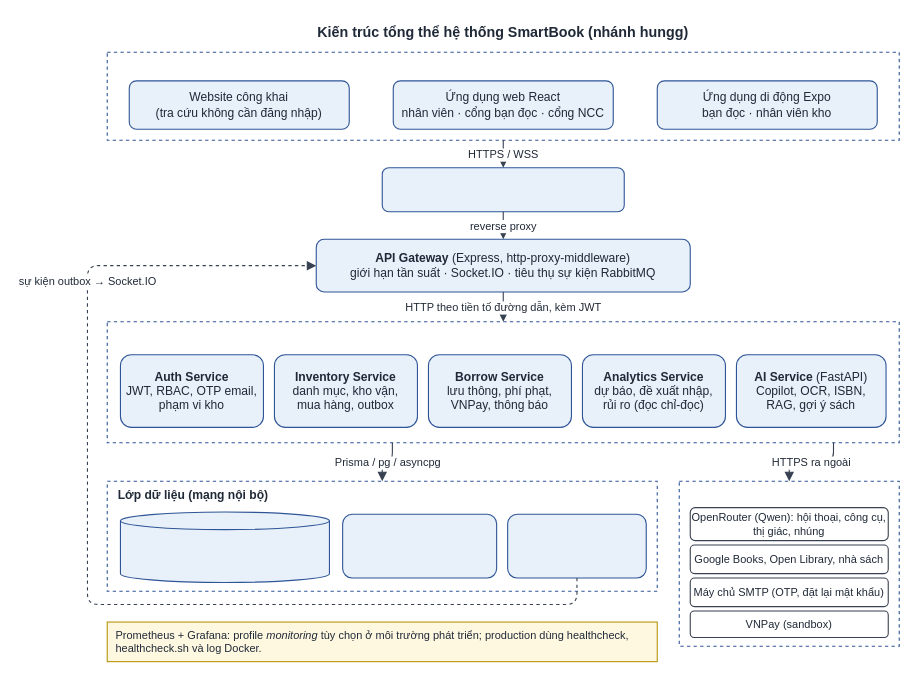
Image size: 919x681. Some labels were removed from this diagram. Each missing label, with the box of its shape:
Caddy 2 – HTTPS, Let's Encrypt (chỉ ở production): (381, 167, 624, 212)
Dịch vụ bên ngoài: (678, 480, 899, 646)
Lớp dịch vụ (mỗi service một cơ sở dữ liệu): (106, 321, 899, 443)
Lớp trình bày: (106, 51, 899, 140)
PostgreSQL 15 + pgvector auth_db · inventory_db · borrow_db · ai_db: (119, 511, 329, 582)
RabbitMQ 3.13 sự kiện tích hợp (Transactional Outbox): (507, 513, 646, 578)
Redis 7 thu hồi token, refresh token, bộ nhớ đệm: (342, 513, 497, 578)
